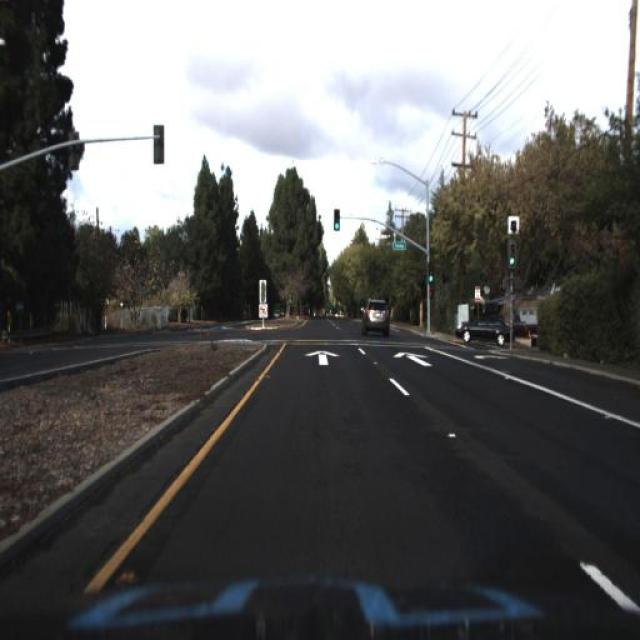car: (453, 306, 515, 346), (364, 294, 394, 337)
trafficLight-GreenLeft: (506, 232, 519, 268), (330, 204, 340, 237), (425, 260, 436, 285)
